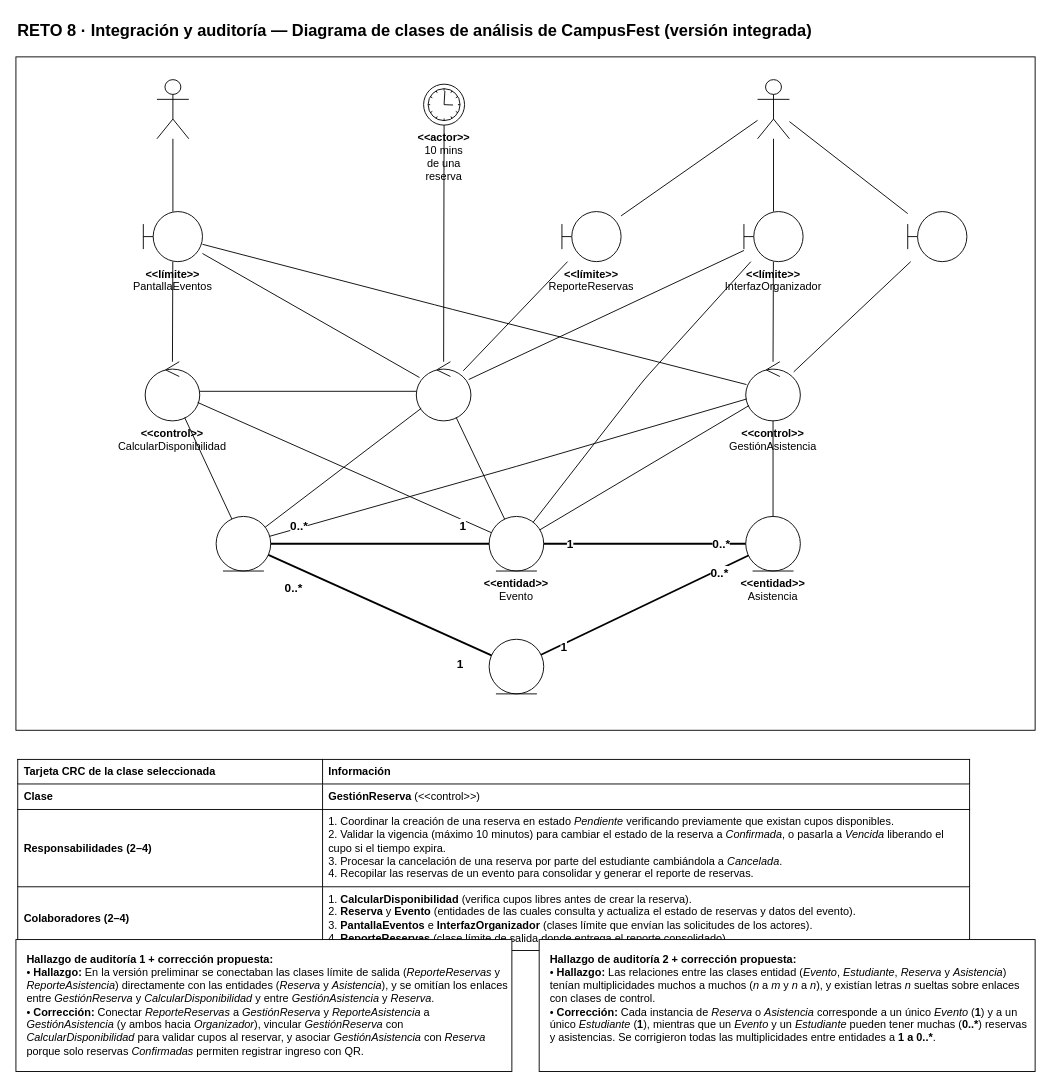
This 1051x1087 diagram has some shape labels left out. Here are the shapes that lost their labels. From the top down, the box of each, then its label:
(156, 79, 189, 139): <<actor>> Estudiante
(757, 79, 789, 139): <<actor>> Organizador
(907, 211, 967, 262): <<límite>> ReporteAsistencia
(415, 361, 471, 421): <<control>> GestiónReserva
(215, 516, 271, 571): <<entidad>> Reserva
(488, 638, 544, 694): <<entidad>> Estudiante
